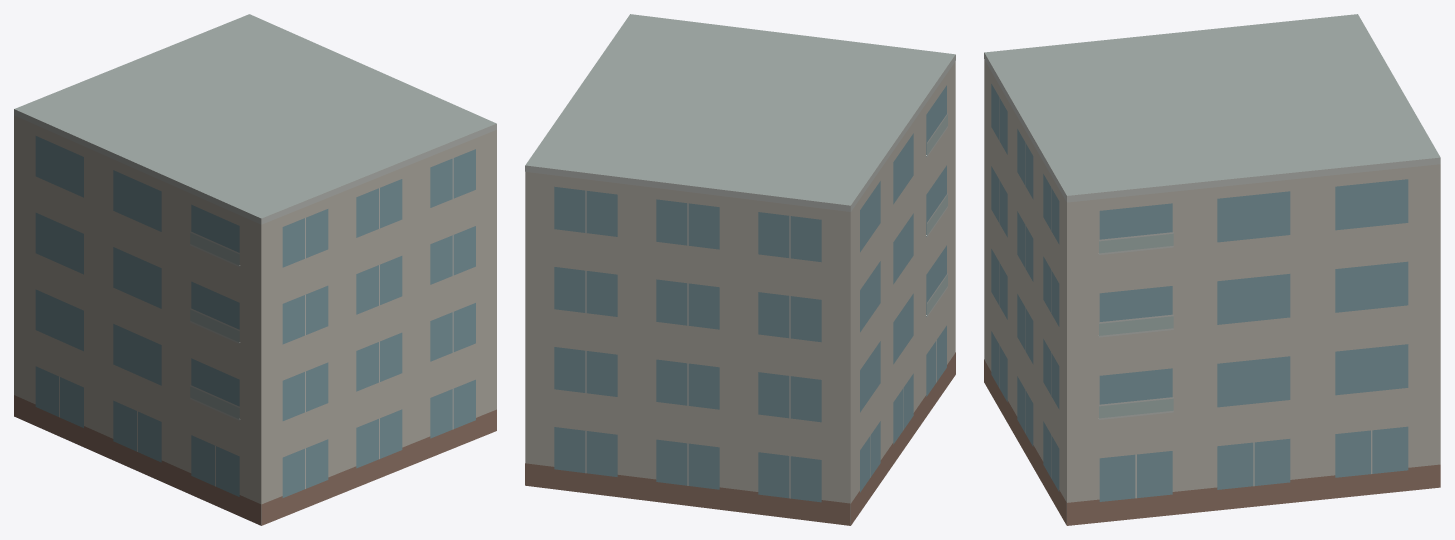
File: residential-146e85c2-6c9c-4d17-930a-b317a8bd4f14.glb
3 views of the same model, side by side, from view 1: azimuth 30°, elevation 25°; view 2: azimuth 150°, elevation 25°; view 3: azimuth 270°, elevation 25° (orthographic). The views are drawn at different scales.
Visible parts, largest first — view 1: residential-146e85c2-6c9c-4d17-930a-b317a8bd4f14.tmp; view 2: residential-146e85c2-6c9c-4d17-930a-b317a8bd4f14.tmp; view 3: residential-146e85c2-6c9c-4d17-930a-b317a8bd4f14.tmp.
Boxes of the visible parts, x1=… form: residential-146e85c2-6c9c-4d17-930a-b317a8bd4f14.tmp: x1=14, y1=14, x2=496, y2=525; residential-146e85c2-6c9c-4d17-930a-b317a8bd4f14.tmp: x1=525, y1=14, x2=955, y2=525; residential-146e85c2-6c9c-4d17-930a-b317a8bd4f14.tmp: x1=984, y1=14, x2=1440, y2=525.
Size of the model in its own units: 14.44 by 12.2 by 15.31.
